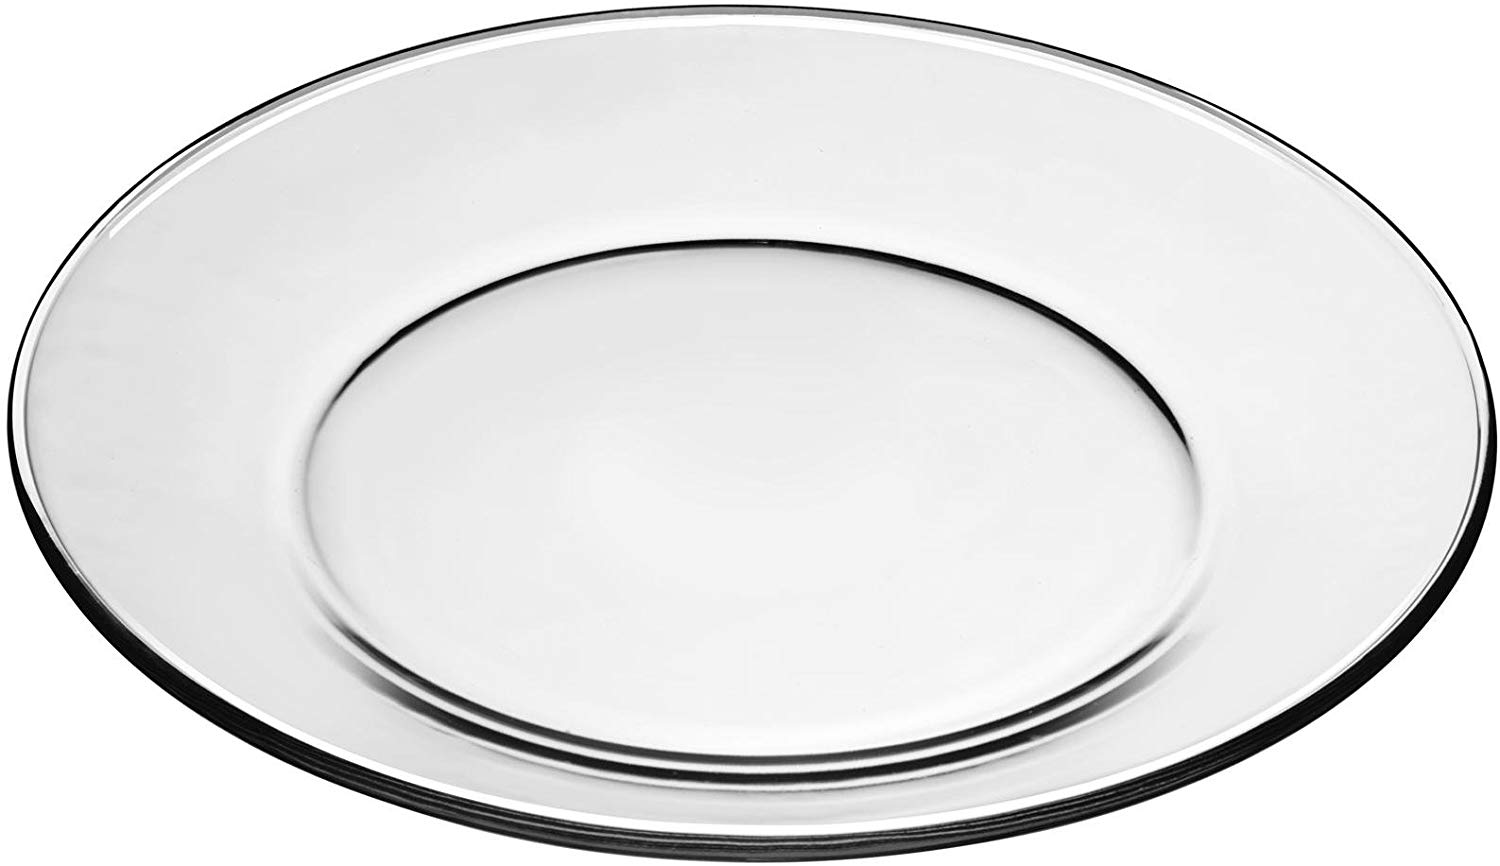glass: (15, 2, 1500, 858)
